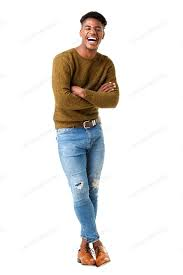person: (48, 9, 122, 268)
